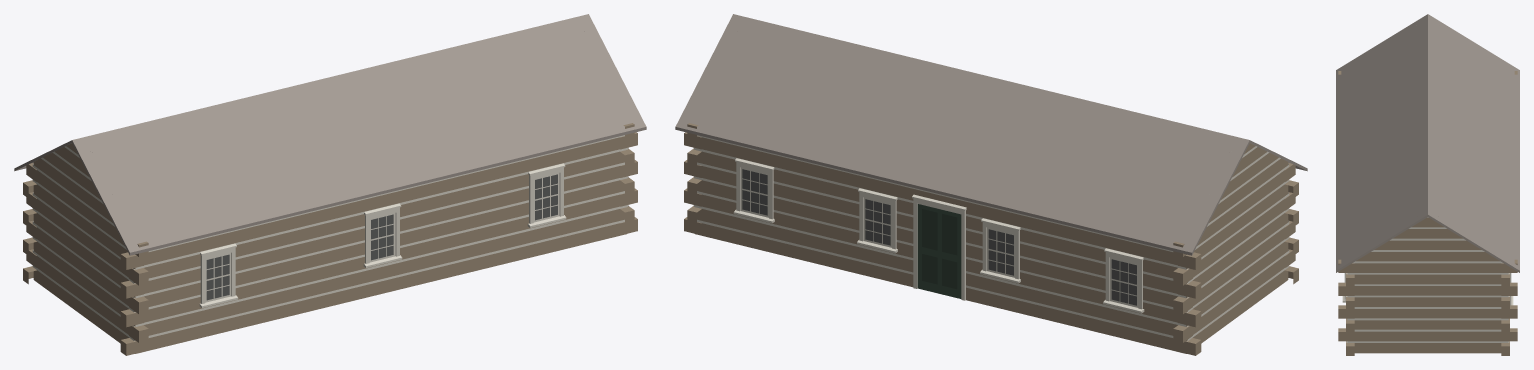
Rendered from fort_dearborn_store_house__log_1816.glb.
3 renders of one model, left to right at view 1: azimuth 30°, elevation 25°; view 2: azimuth 150°, elevation 25°; view 3: azimuth 270°, elevation 25°, orthographic. The views are drawn at different scales.
Visible parts, largest first — view 1: fort_dearborn_store_house__log_1816; view 2: fort_dearborn_store_house__log_1816; view 3: fort_dearborn_store_house__log_1816.
Part boxes in pixels (x1,y1,x2,y2): fort_dearborn_store_house__log_1816: [14, 14, 646, 355]; fort_dearborn_store_house__log_1816: [675, 14, 1307, 355]; fort_dearborn_store_house__log_1816: [1336, 14, 1519, 355].
Bounding box in the file's own units: 12.84 × 4.27 × 4.97.
